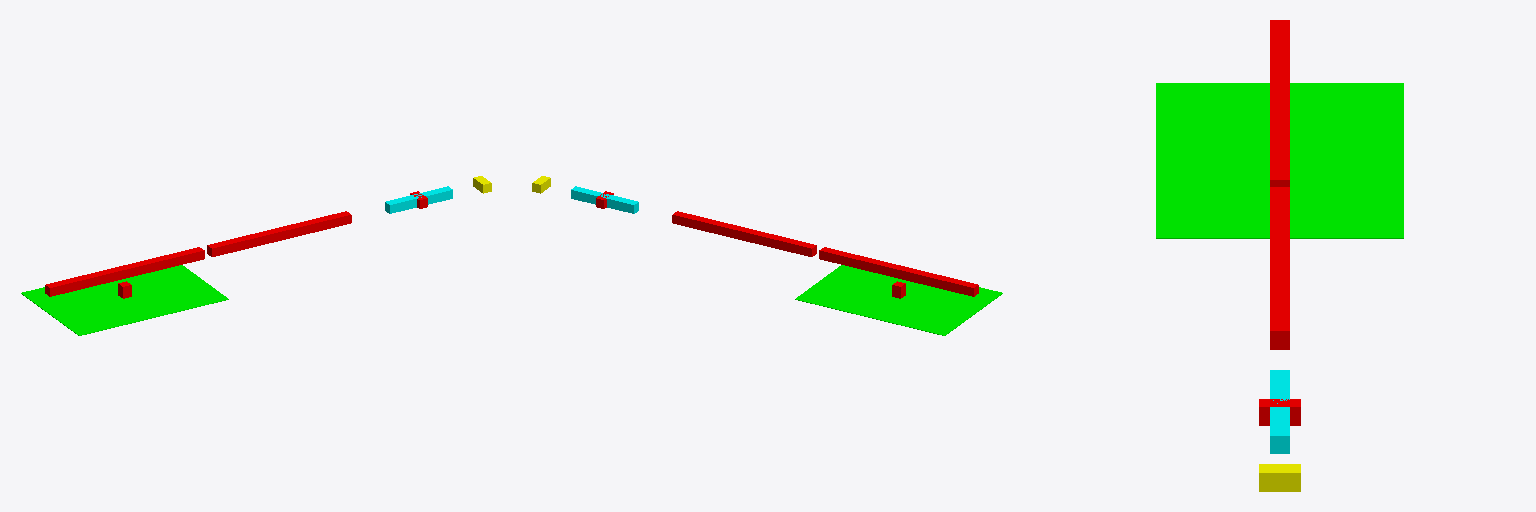
The robot description file, URDF, robot "rsx_arm":
<robot name="rsx_arm">
  <link name="link0_base">
    <visual>
      <origin xyz="0 0 0" rpy="0 0 0" />
      <geometry>
        <box size="35.5 24 0.1" />
      </geometry>
      <material name="Green">
        <color rgba="0 1.0 0 0.5"/>
      </material>
    </visual>
  </link>

  <link name="link1_waist">
    <visual>
      <origin xyz="0 0 0" rpy="0 0 0" />
      <geometry>
        <box size="2 2 5.5" />
      </geometry>
      <material name="Red">
        <color rgba="1.0 0 0 0.5"/>
      </material>
    </visual>
  </link>

  <link name="link2_shoulder">
    <visual>
      <origin xyz="0 0 0" rpy="0 0 0" />
      <geometry>
        <box size="36.5 2 2" />
      </geometry>
      <material name="Red">
        <color rgba="1.0 0 0 0.5"/>
      </material>
    </visual>
  </link>

  <link name="link3_elbow">
    <visual>
      <origin xyz="0 0 0" rpy="0 0 0" />
      <geometry>
        <box size="33 2 2" />
      </geometry>
      <material name="Red">
        <color rgba="1.0 0 0 0.5"/>
      </material>
    </visual>
  </link>

  <link name="link4_wrist1">
    <visual>
      <origin xyz="0 0 0" rpy="0 0 0" />
      <geometry>
        <box size="4 2 2" />
      </geometry>
      <material name="Red">
        <color rgba="1.0 0 0 0.5"/>
      </material>
    </visual>
  </link>

  <link name="link5_wrist2">
    <visual>
      <origin xyz="0 0 0" rpy="0 0 0" />
      <geometry>
        <box size="15 2 2" />
      </geometry>
      <material name="Cyan">
        <color rgba="0 1.0 1.0 0.5"/>
      </material>
    </visual>
  </link>

  <link name="link6_wrist3">
    <visual>
      <origin xyz="0 0 0" rpy="0 0 0" />
      <geometry>
        <box size="4 2 2" />
      </geometry>
      <material name="Yellow">
        <color rgba="1.0 1.0 0 0.5"/>
      </material>
    </visual>
  </link>
    


  <joint name="joint0_waist" type="continuous">
    <parent link="link0_base"/>
    <child link="link1_waist"/>
    <origin xyz="0 0 0" rpy="0 0 0" />
    <axis xyz="0 0 1" />
  </joint>
   
  <joint name="joint1_shoulder" type="continuous">
    <parent link="link1_waist"/>
    <child link="link2_shoulder"/>
    <origin xyz="0 0 5.5" rpy="1.5707963 0 0" />
    <axis xyz="0 0 1" />
  </joint>
   
  <joint name="joint2_elbow" type="continuous">
    <parent link="link2_shoulder"/>
    <child link="link3_elbow"/>
    <origin xyz="36.5 0 0" rpy="0 0 0" />
    <axis xyz="0 0 1" />
  </joint>

  <joint name="joint3_wrist1" type="continuous">
    <parent link="link3_elbow"/>
    <child link="link4_wrist1"/>
    <origin xyz="33 0 0" rpy="0 1.5707963 0" />
    <axis xyz="0 0 1" />
  </joint>

  <joint name="joint4_wrist2" type="continuous">
    <parent link="link4_wrist1"/>
    <child link="link5_wrist2"/>
    <origin xyz="0 0 0" rpy="0 -1.5707963 0" />
    <axis xyz="0 0 1" />
  </joint>

  <joint name="joint5_wrist3" type="continuous">
    <parent link="link5_wrist2"/>
    <child link="link6_wrist3"/>
    <origin xyz="15 0 0" rpy="0 1.5707963 0" />
    <axis xyz="0 0 1" />
  </joint>
</robot>

--- Render facts (derived) ---
The picture shows the robot from 3 angles, left to right: view 1: azimuth 30°, elevation 25°; view 2: azimuth 150°, elevation 25°; view 3: azimuth 270°, elevation 25°; orthographic projection.
Model rsx_arm with 7 links and 6 joints (6 continuous), rooted at link0_base, posed every joint at zero.
Links seen in each view (by area): view 1: link0_base, link2_shoulder, link3_elbow, link5_wrist2; view 2: link0_base, link2_shoulder, link3_elbow, link5_wrist2; view 3: link0_base, link2_shoulder, link3_elbow, link5_wrist2, link6_wrist3, link4_wrist1.
Boxes of the visible links, <box> form: link0_base: <box>21,265,228,335</box>; link2_shoulder: <box>45,247,204,296</box>; link3_elbow: <box>207,211,351,256</box>; link5_wrist2: <box>385,186,452,213</box>; link0_base: <box>795,265,1002,335</box>; link2_shoulder: <box>819,247,978,296</box>; link3_elbow: <box>672,211,816,256</box>; link5_wrist2: <box>571,186,638,213</box>; link0_base: <box>1156,83,1403,238</box>; link2_shoulder: <box>1270,20,1289,186</box>; link3_elbow: <box>1270,187,1289,349</box>; link5_wrist2: <box>1270,370,1289,453</box>; link6_wrist3: <box>1259,464,1300,491</box>; link4_wrist1: <box>1259,399,1300,425</box>.
Size in the robot's own frame: 104 by 24 by 9.25 metres.
Geometry: primitives only (box / cylinder / sphere), no mesh files.